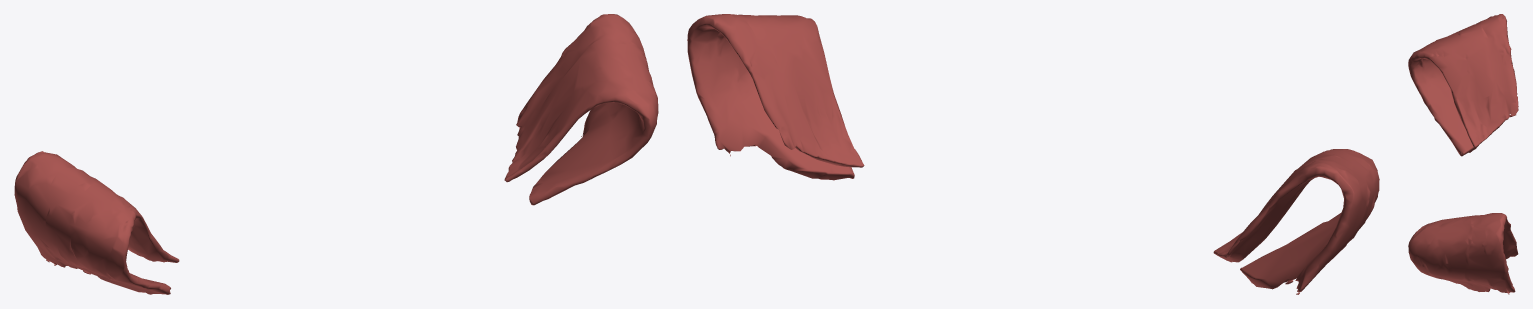
Rendered from other-muscle-structures.glb.
3 renders of one model, left to right at view 1: azimuth 30°, elevation 25°; view 2: azimuth 150°, elevation 25°; view 3: azimuth 270°, elevation 25°, orthographic. The views are drawn at different scales.
Parts seen in each view (by area): view 1: FMA264840, FMA258850; view 2: FMA264840, FMA258850; view 3: FMA258850, FMA264840.
Part boxes in pixels (x1=…): FMA264840: x1=504, y1=14, x2=658, y2=205; FMA258850: x1=14, y1=151, x2=179, y2=294; FMA264840: x1=687, y1=14, x2=864, y2=180; FMA258850: x1=1213, y1=149, x2=1379, y2=294; FMA258850: x1=1408, y1=14, x2=1518, y2=156; FMA264840: x1=1408, y1=213, x2=1518, y2=294.
Size of the model in its own units: 0.0323 by 0.00733 by 0.00692.
